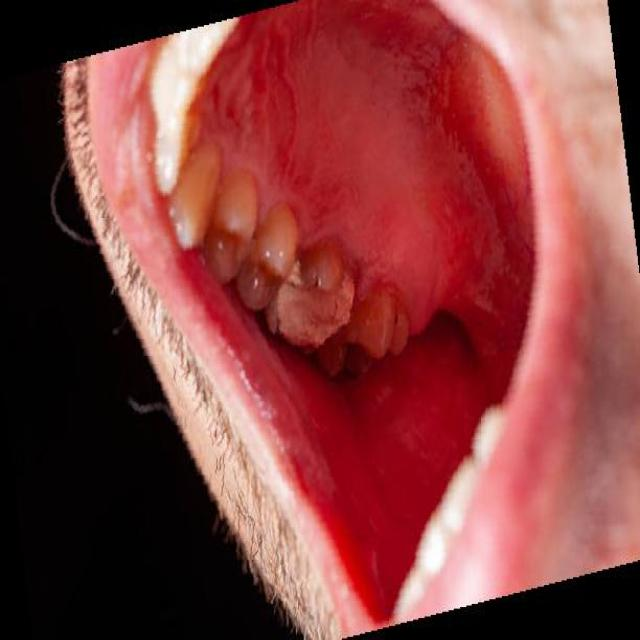caries: (272, 240, 350, 356)
